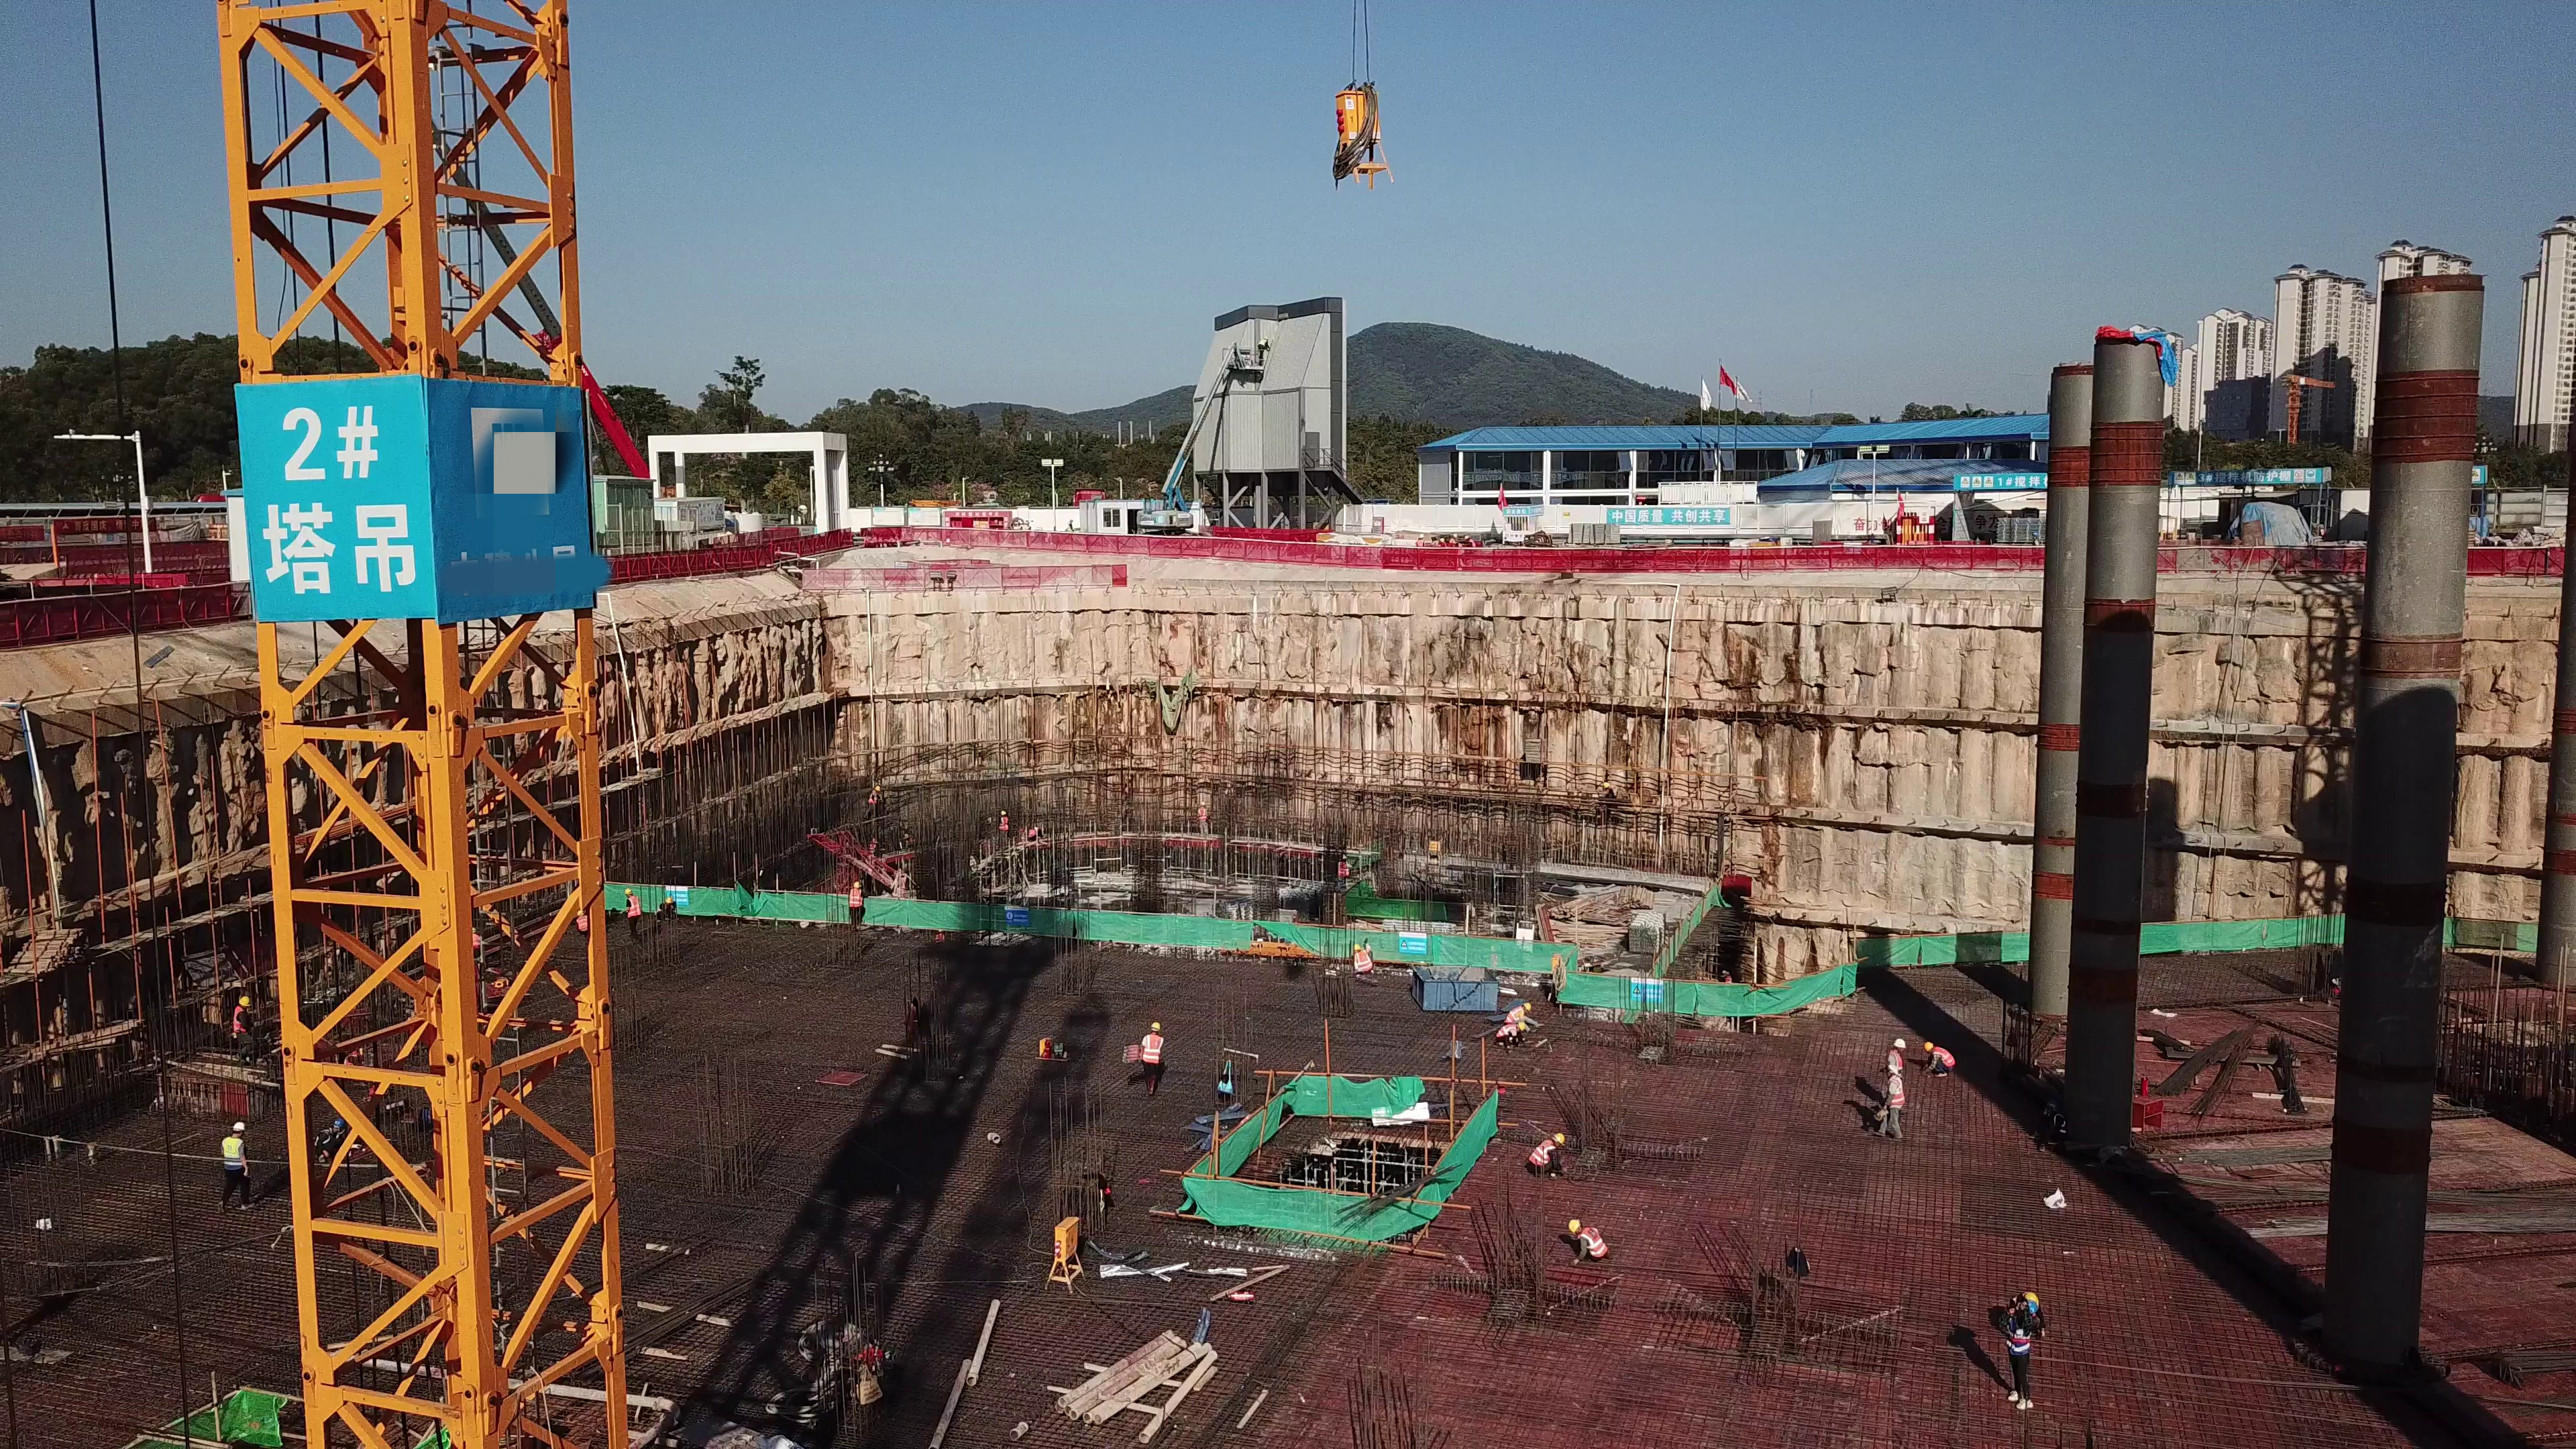helmet: (2020, 1291, 2043, 1311), (1566, 1214, 1583, 1234), (1554, 1128, 1572, 1144), (331, 1117, 344, 1130), (1886, 1063, 1901, 1076), (231, 1121, 249, 1132), (1894, 1037, 1907, 1049), (1517, 1021, 1528, 1033), (239, 994, 251, 1005), (1149, 1018, 1161, 1030), (1352, 944, 1363, 952), (624, 886, 634, 895), (853, 880, 862, 889), (663, 897, 675, 904), (1924, 1042, 1934, 1050), (1526, 1002, 1534, 1010)
person: (1997, 1287, 2046, 1415), (208, 1116, 257, 1214), (213, 987, 257, 1069), (1138, 1016, 1169, 1112), (1530, 1128, 1575, 1183), (1562, 1218, 1612, 1263), (1882, 1063, 1909, 1136), (1919, 1039, 1960, 1077), (622, 882, 648, 943), (845, 873, 867, 932), (650, 894, 688, 922), (1486, 1022, 1530, 1047), (1350, 937, 1375, 977), (1503, 998, 1540, 1021), (1195, 799, 1215, 841), (1884, 1037, 1909, 1063), (865, 784, 883, 821), (1599, 780, 1619, 812), (996, 809, 1012, 844), (1018, 824, 1042, 845)
vest: (2008, 1319, 2034, 1363), (1580, 1228, 1609, 1256), (1530, 1139, 1554, 1171), (219, 1139, 241, 1169), (1889, 1080, 1909, 1108), (1145, 1034, 1161, 1067), (1936, 1049, 1957, 1069), (229, 1010, 246, 1032), (1887, 1051, 1907, 1069), (626, 896, 643, 916), (1496, 1024, 1517, 1039), (1509, 1000, 1523, 1021), (1354, 953, 1372, 969), (850, 890, 863, 910)
